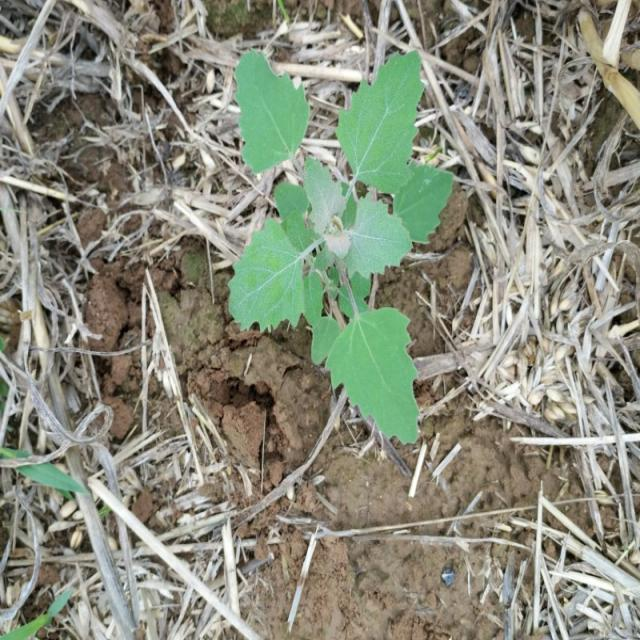goosefoots: (213, 42, 446, 437)
